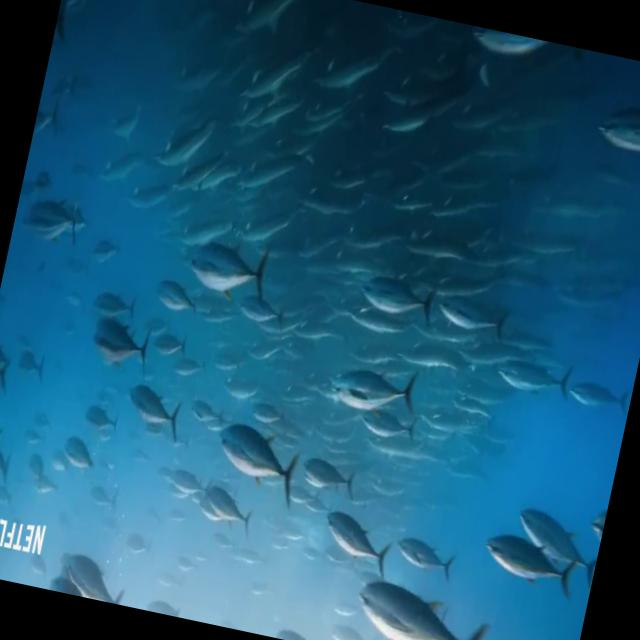fish: (205, 406, 308, 508), (344, 572, 497, 640), (108, 355, 193, 462), (478, 523, 582, 603), (195, 234, 276, 306), (338, 361, 422, 427), (386, 528, 463, 588), (320, 510, 392, 572), (588, 85, 640, 165)
